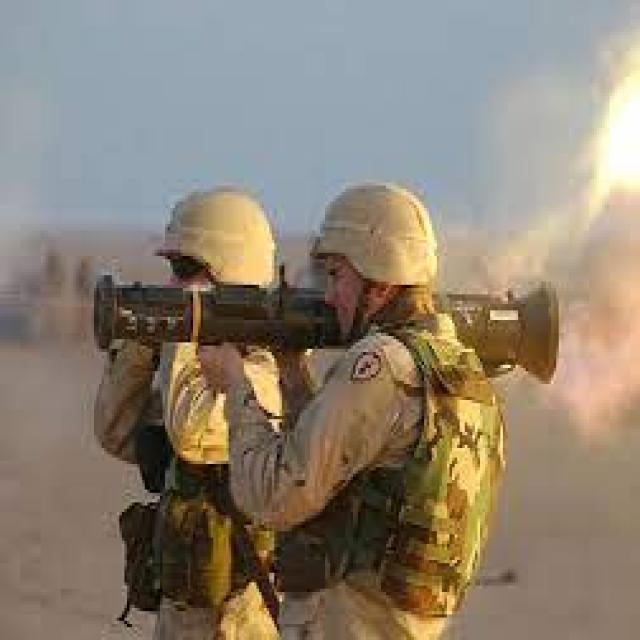bazooka: (90, 274, 562, 377)
